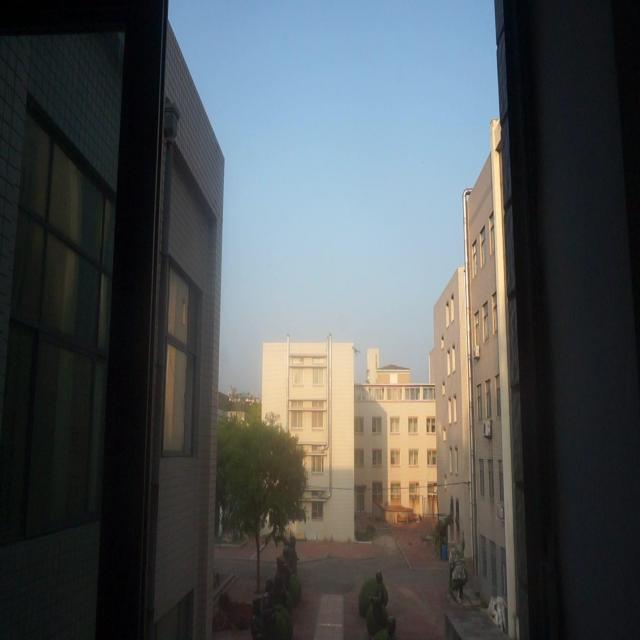UAV: (352, 346, 361, 356)
